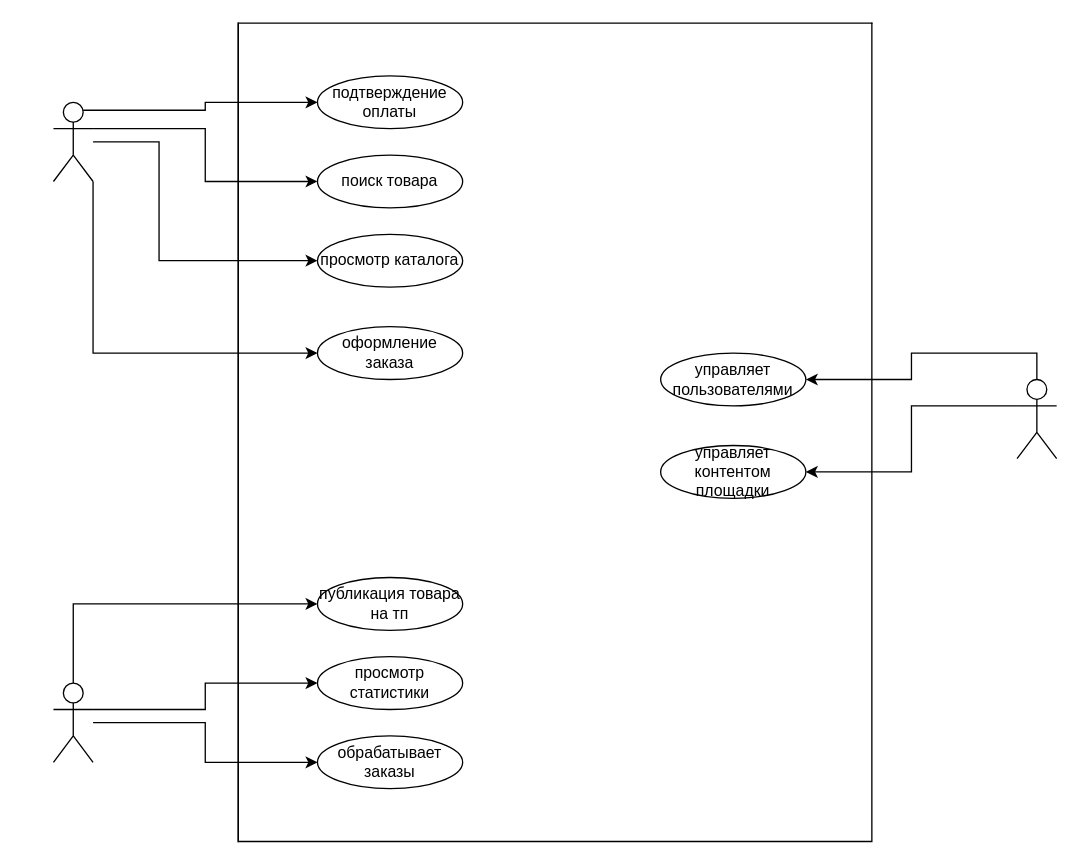
Image size: 1085x865. Some labels were removed from this diagram. The box of each missing label's shape, as (x1, y1, x2, y2) in pixels:
пользователь: (52, 101, 93, 182)
продавец: (52, 682, 93, 762)
сервер: (1016, 378, 1057, 459)
